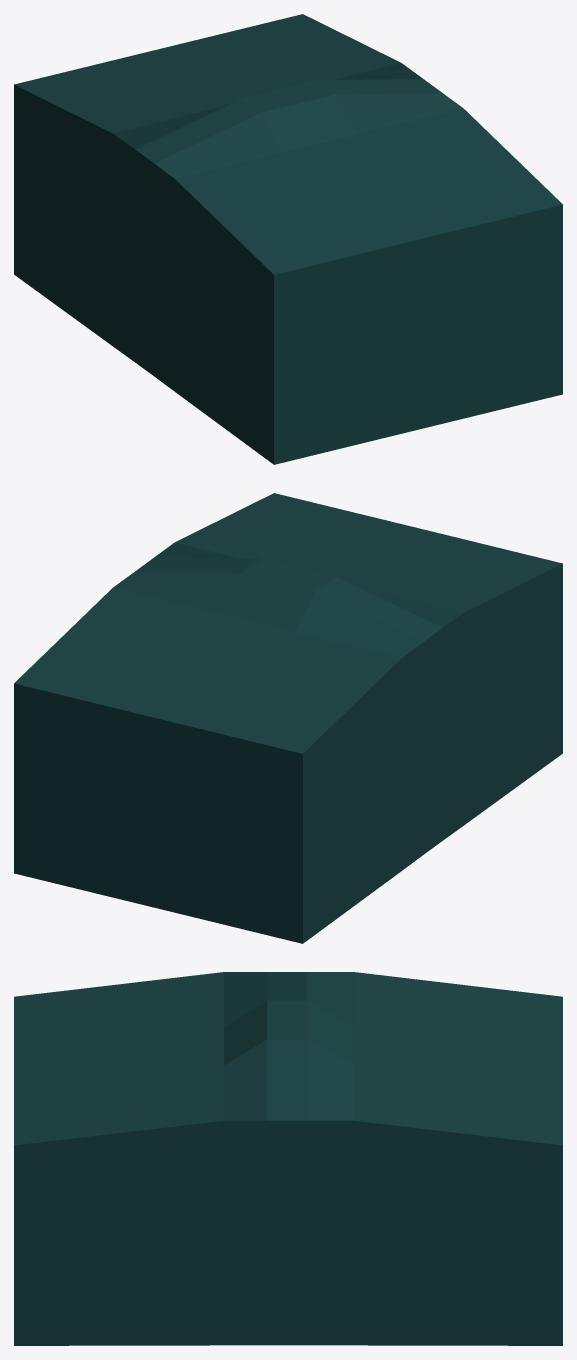
File: OutsideFinalRoom.fbx
3 renders of one model, top to bottom at view 1: azimuth 30°, elevation 25°; view 2: azimuth 150°, elevation 25°; view 3: azimuth 270°, elevation 25°, orthographic. The views are drawn at different scales.
Visible parts, largest first — view 1: OutsideFinalRoom; view 2: OutsideFinalRoom; view 3: OutsideFinalRoom.
Boxes of the visible parts, x1,y1,x2,y2 form: OutsideFinalRoom: [14, 14, 562, 464]; OutsideFinalRoom: [14, 493, 562, 943]; OutsideFinalRoom: [14, 972, 562, 1345].
Bounding box in the file's own units: 458 × 714 × 361.
